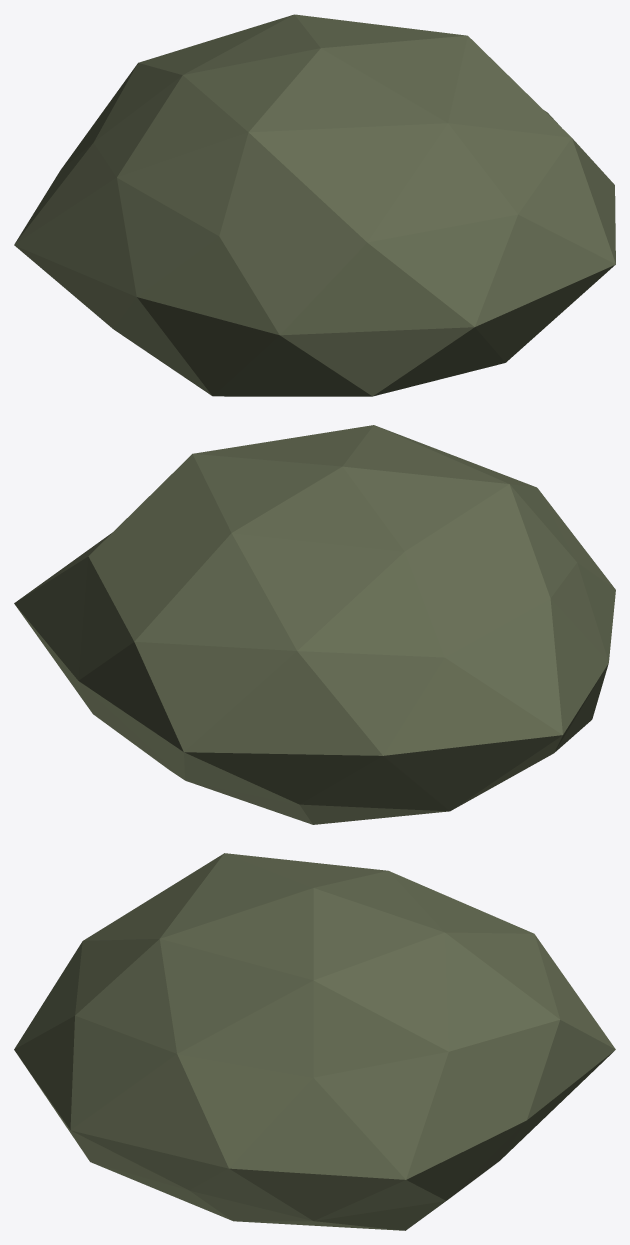
File: rockMass1.obj
3 renders of one model, top to bottom at view 1: azimuth 30°, elevation 25°; view 2: azimuth 150°, elevation 25°; view 3: azimuth 270°, elevation 25°, orthographic. The views are drawn at different scales.
Parts seen in each view (by area): view 1: rockMass1; view 2: rockMass1; view 3: rockMass1.
Boxes of the visible parts, x1=… form: rockMass1: x1=14, y1=14, x2=615, y2=396; rockMass1: x1=14, y1=425, x2=615, y2=824; rockMass1: x1=14, y1=853, x2=615, y2=1230.
Size of the model in its own units: 1.91 by 1 by 1.91.
Materials: 1 (1 with a texture image).
